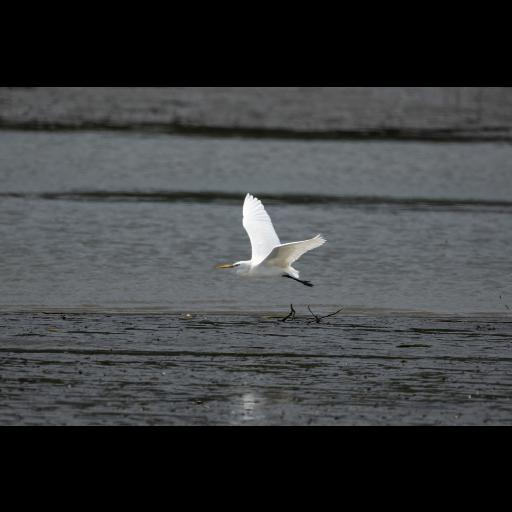chinese_egret: (216, 192, 328, 288)
